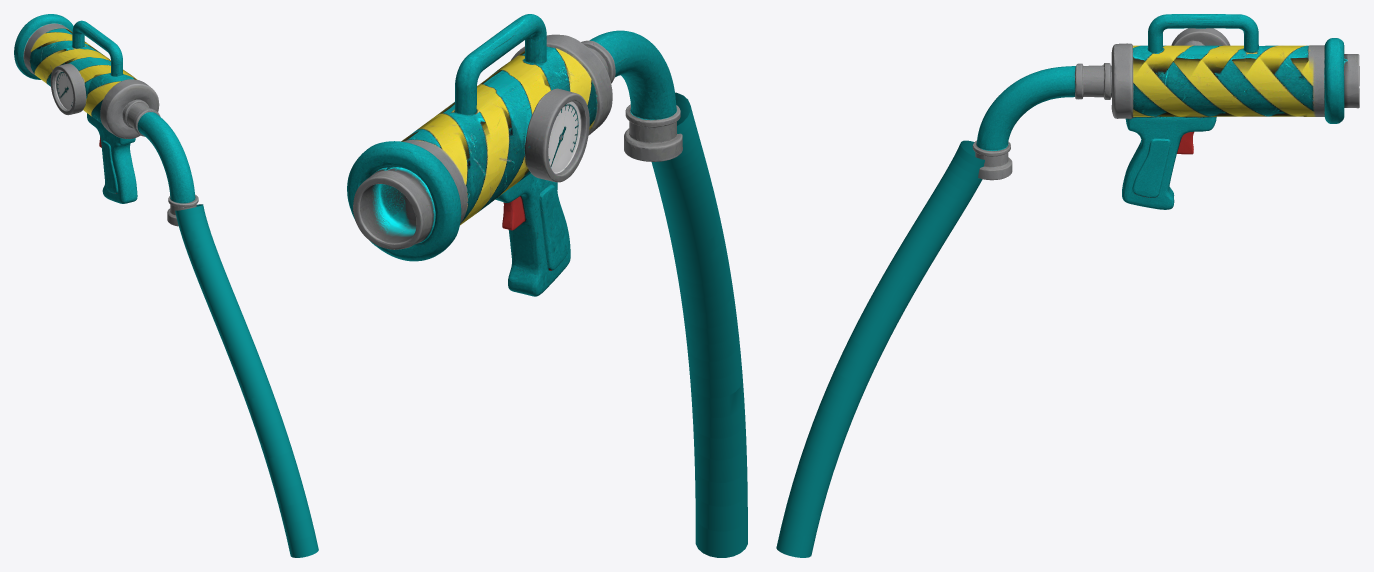
File: lancia_c2_turchese.gltf
3 views of the same model, side by side, from view 1: azimuth 30°, elevation 25°; view 2: azimuth 150°, elevation 25°; view 3: azimuth 270°, elevation 25° (orthographic). The views are drawn at different scales.
Parts seen in each view (by area): view 1: Lancia, TuboZaino; view 2: Lancia, TuboZaino; view 3: Lancia, TuboZaino.
Part boxes in pixels (box(x1,y1,x2,y2)): Lancia: box(14, 14, 198, 226); TuboZaino: box(175, 204, 318, 557); Lancia: box(347, 14, 682, 296); TuboZaino: box(651, 92, 747, 557); Lancia: box(972, 14, 1359, 209); TuboZaino: box(776, 140, 984, 557).
Bounding box in the file's own units: 0.3029 × 1.31 × 1.35.
2 materials, 1 textured.
